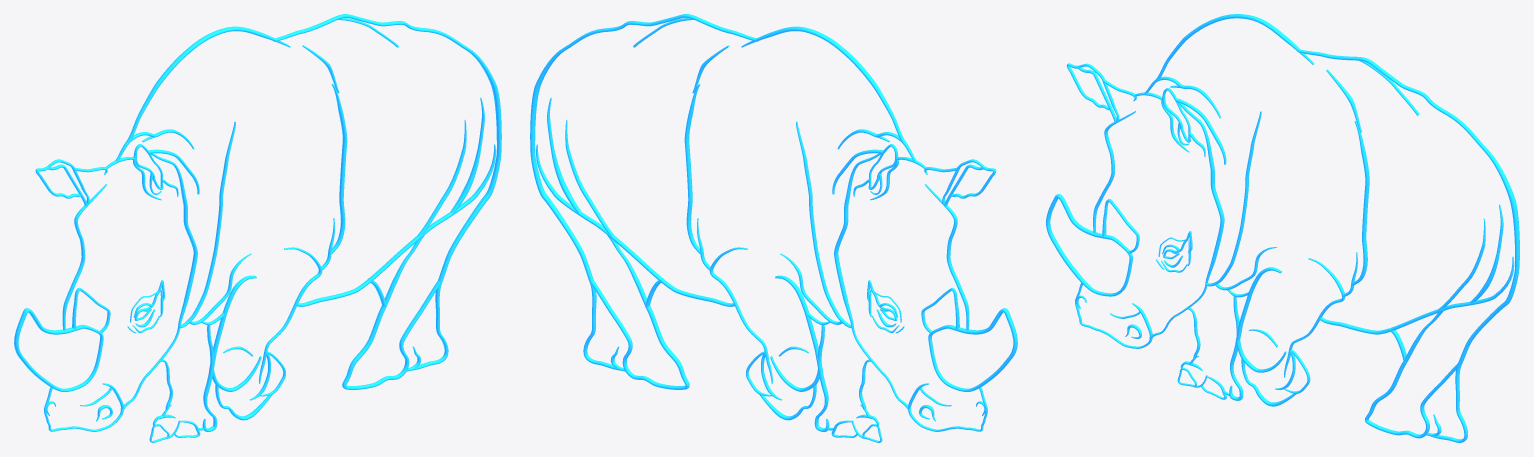
The model's file is rhino-constellation-dhazele.glb.
3 renders of one model, left to right at view 1: azimuth 30°, elevation 25°; view 2: azimuth 150°, elevation 25°; view 3: azimuth 330°, elevation 25°, orthographic. The views are drawn at different scales.
Parts seen in each view (by area): view 1: rhino; view 2: rhino; view 3: rhino.
Part boxes in pixels (left/top/right/bottom): rhino: left=14, top=14, right=501, bottom=442; rhino: left=530, top=14, right=1017, bottom=442; rhino: left=1046, top=14, right=1519, bottom=442.
Bounding box in the file's own units: 3.38 × 2.67 × 0.0421.
